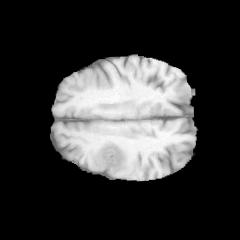glioma: (94, 141, 127, 173)
